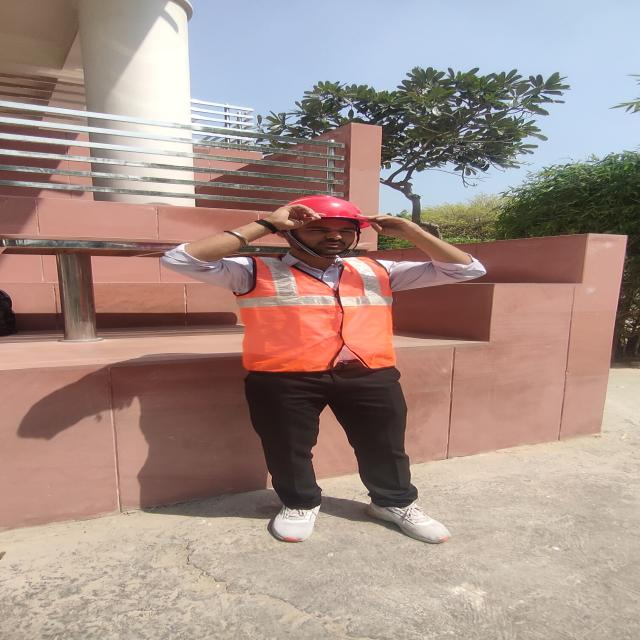safe: (162, 196, 486, 543)
